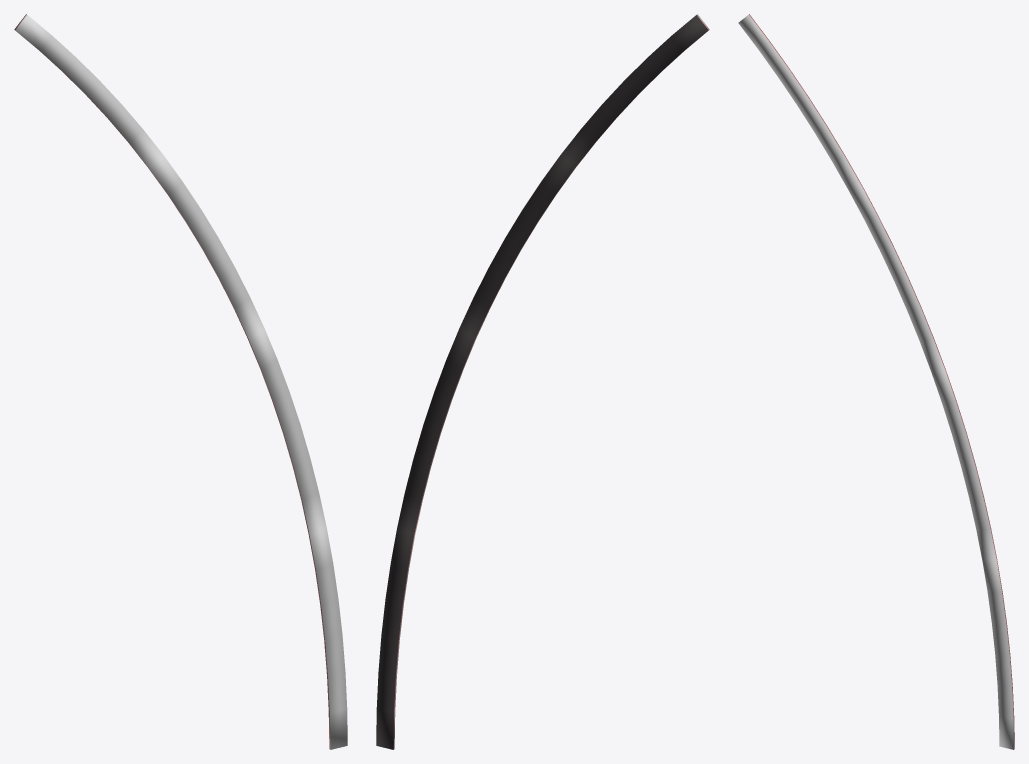
Rendered from Rails_80m_45d_Collider.fbx.
The picture shows the model from 3 angles, left to right: view 1: azimuth 30°, elevation 25°; view 2: azimuth 150°, elevation 25°; view 3: azimuth 330°, elevation 25°; orthographic projection. The views are drawn at different scales.
Parts seen in each view (by area): view 1: LP_Rails_80m_45dCollider; view 2: LP_Rails_80m_45dCollider; view 3: LP_Rails_80m_45dCollider.
Boxes of the visible parts, left/top/right/bottom form: LP_Rails_80m_45dCollider: left=14, top=14, right=347, bottom=749; LP_Rails_80m_45dCollider: left=376, top=14, right=709, bottom=749; LP_Rails_80m_45dCollider: left=738, top=14, right=1014, bottom=749.
Bounding box in the file's own units: 31.21 × 72.6 × 0.21.
